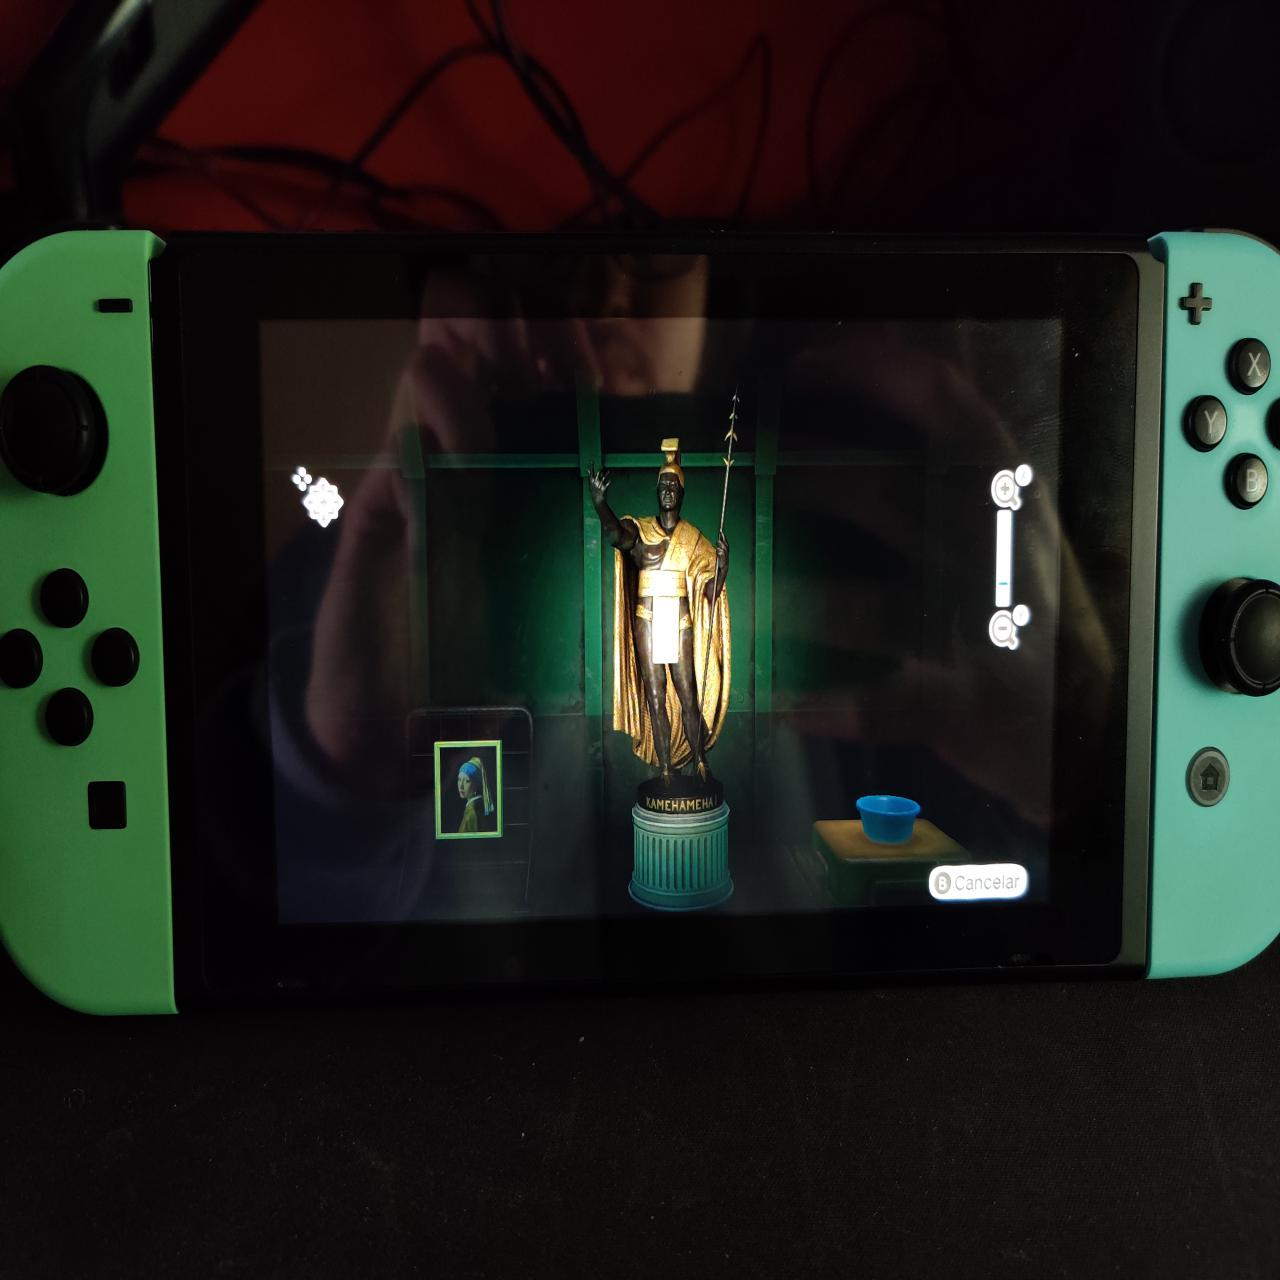Kamehameha: (585, 388, 756, 826)
PearlEarring: (440, 749, 502, 833)
